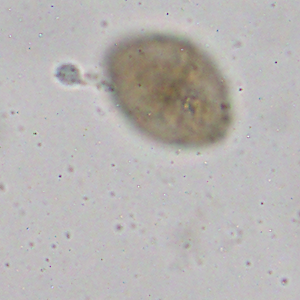Fasciola_hepatica_egg: (103, 31, 234, 147)
